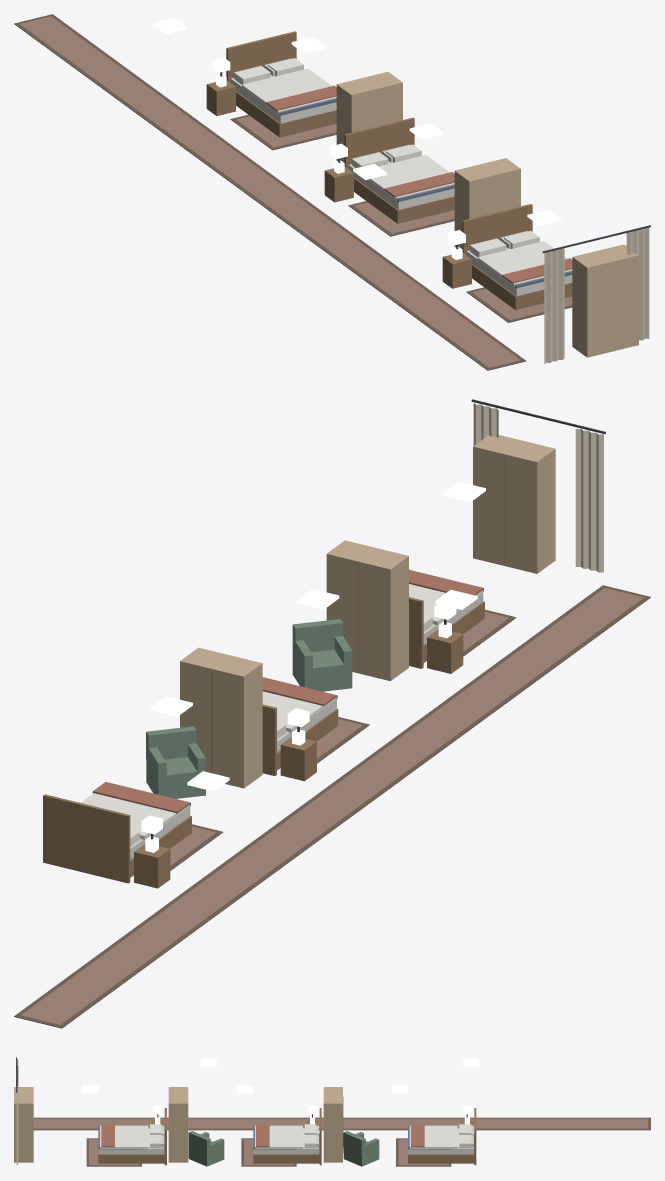
Rendered from fine-s2.glb.
The picture shows the model from 3 angles, top to bottom: view 1: azimuth 30°, elevation 25°; view 2: azimuth 150°, elevation 25°; view 3: azimuth 270°, elevation 25°; orthographic projection. The views are drawn at different scales.
Visible parts, largest first — view 1: soft-s2, dresser.005, bed-frame.003, bed-frame.004, bed-frame.005, dresser.004, dresser.003, nightstand.005, nightstand.003, nightstand.004; view 2: soft-s2, dresser.005, dresser.004, dresser.003, bed-frame.003, lounge-chair.003, lounge-chair.002, bed-frame.004, bed-frame.005, nightstand.005, nightstand.004, nightstand.003; view 3: soft-s2, dresser.004, dresser.003, dresser.005, bed-frame.003, bed-frame.004, bed-frame.005, lounge-chair.003, lounge-chair.002.
Part boxes in pixels (x1=…): soft-s2: x1=14, y1=14, x2=650, y2=370; dresser.005: x1=572, y1=244, x2=638, y2=357; bed-frame.003: x1=226, y1=31, x2=336, y2=137; bed-frame.004: x1=344, y1=117, x2=454, y2=223; bed-frame.005: x1=462, y1=204, x2=572, y2=310; dresser.004: x1=454, y1=158, x2=520, y2=248; dresser.003: x1=336, y1=72, x2=402, y2=162; nightstand.005: x1=442, y1=246, x2=471, y2=288; nightstand.003: x1=206, y1=74, x2=235, y2=115; nightstand.004: x1=324, y1=160, x2=353, y2=202; soft-s2: x1=14, y1=399, x2=650, y2=1028; dresser.005: x1=473, y1=435, x2=555, y2=573; dresser.004: x1=326, y1=540, x2=408, y2=681; dresser.003: x1=180, y1=647, x2=262, y2=788; bed-frame.003: x1=43, y1=794, x2=191, y2=883; lounge-chair.003: x1=292, y1=619, x2=352, y2=691; lounge-chair.002: x1=146, y1=726, x2=205, y2=798; bed-frame.004: x1=262, y1=695, x2=338, y2=775; bed-frame.005: x1=409, y1=588, x2=484, y2=668; nightstand.005: x1=427, y1=621, x2=463, y2=673; nightstand.004: x1=280, y1=729, x2=316, y2=781; nightstand.003: x1=134, y1=836, x2=170, y2=888; soft-s2: x1=16, y1=1057, x2=650, y2=1166; dresser.004: x1=168, y1=1087, x2=188, y2=1162; dresser.003: x1=323, y1=1087, x2=343, y2=1162; dresser.005: x1=14, y1=1087, x2=33, y2=1162; bed-frame.003: x1=408, y1=1108, x2=476, y2=1165; bed-frame.004: x1=253, y1=1108, x2=321, y2=1165; bed-frame.005: x1=98, y1=1108, x2=166, y2=1165; lounge-chair.003: x1=188, y1=1131, x2=224, y2=1166; lounge-chair.002: x1=343, y1=1131, x2=379, y2=1166.
Bounding box in the file's own units: 3.57 × 2.56 × 19.56.
